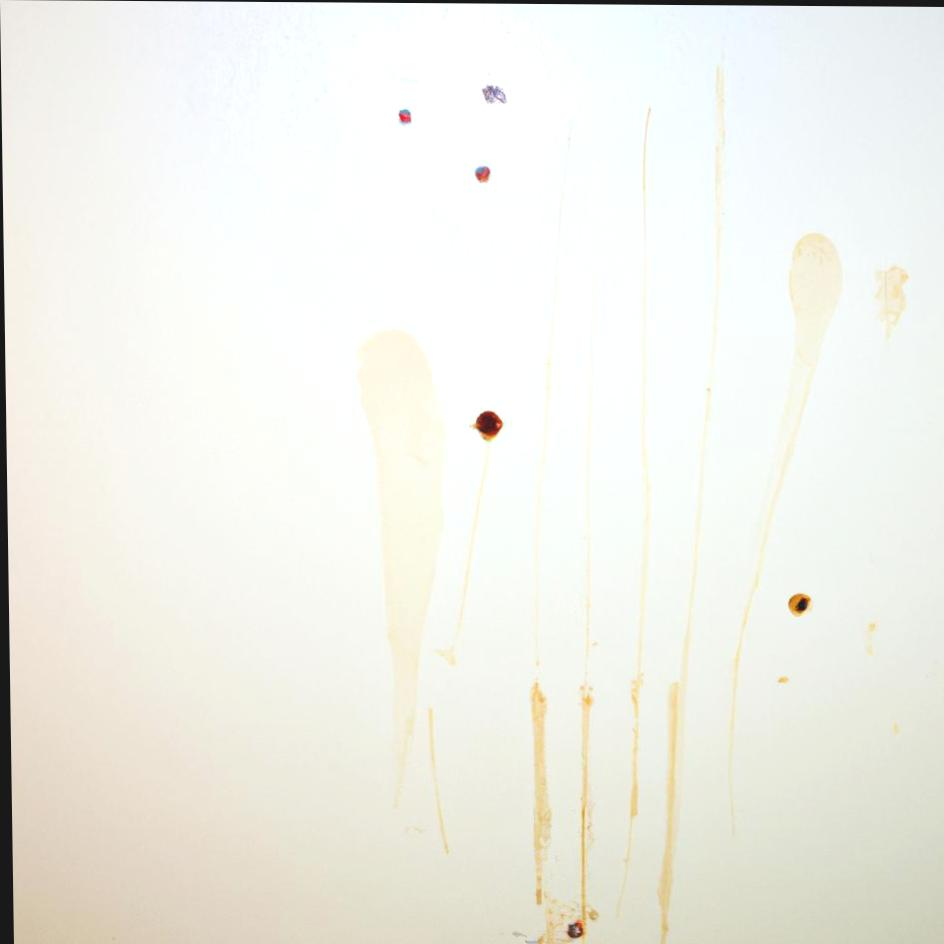Fire: (469, 410, 502, 441)
